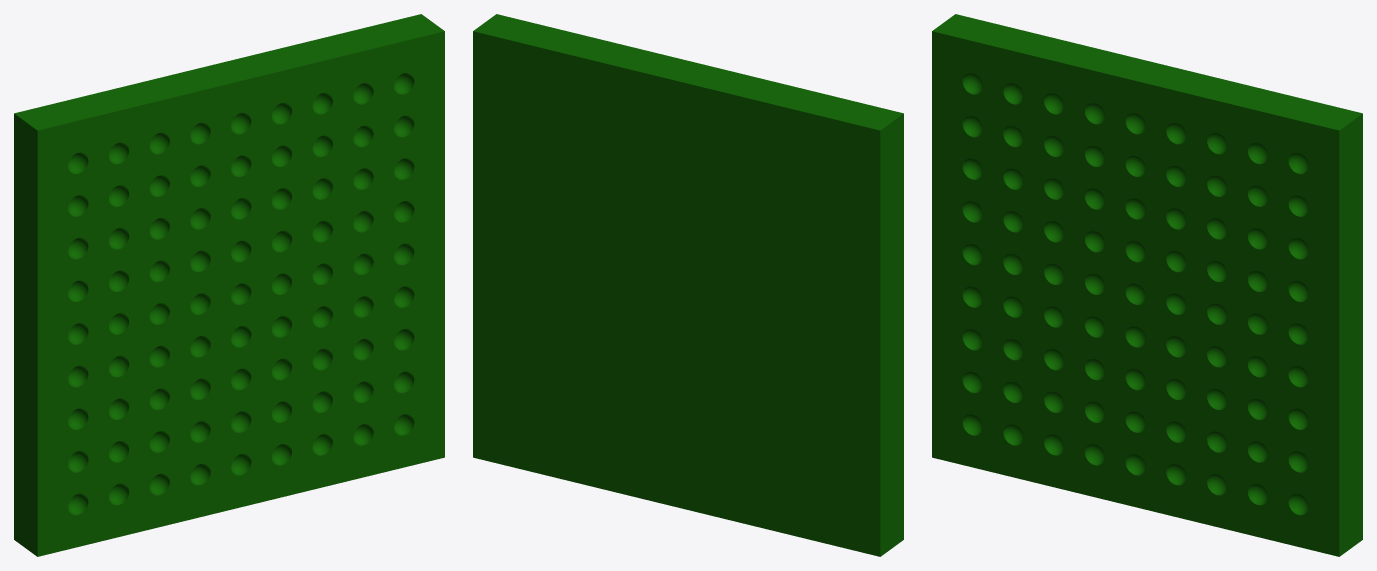
3 views of the same model, side by side, from view 1: azimuth 30°, elevation 25°; view 2: azimuth 150°, elevation 25°; view 3: azimuth 330°, elevation 25° (orthographic).
Visible parts, largest first — view 1: Body344; view 2: Body344; view 3: Body344.
Part boxes in pixels (x1,y1,x2,y2): Body344: [14, 14, 444, 556]; Body344: [473, 14, 903, 556]; Body344: [932, 14, 1362, 556].
Size of the model in its own units: 1 by 1 by 0.1.
